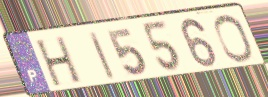5: (139, 19, 183, 75), (104, 26, 150, 78)
6: (180, 16, 218, 70)
H: (34, 34, 84, 89)
I: (87, 29, 118, 82)
O: (212, 13, 256, 64)
